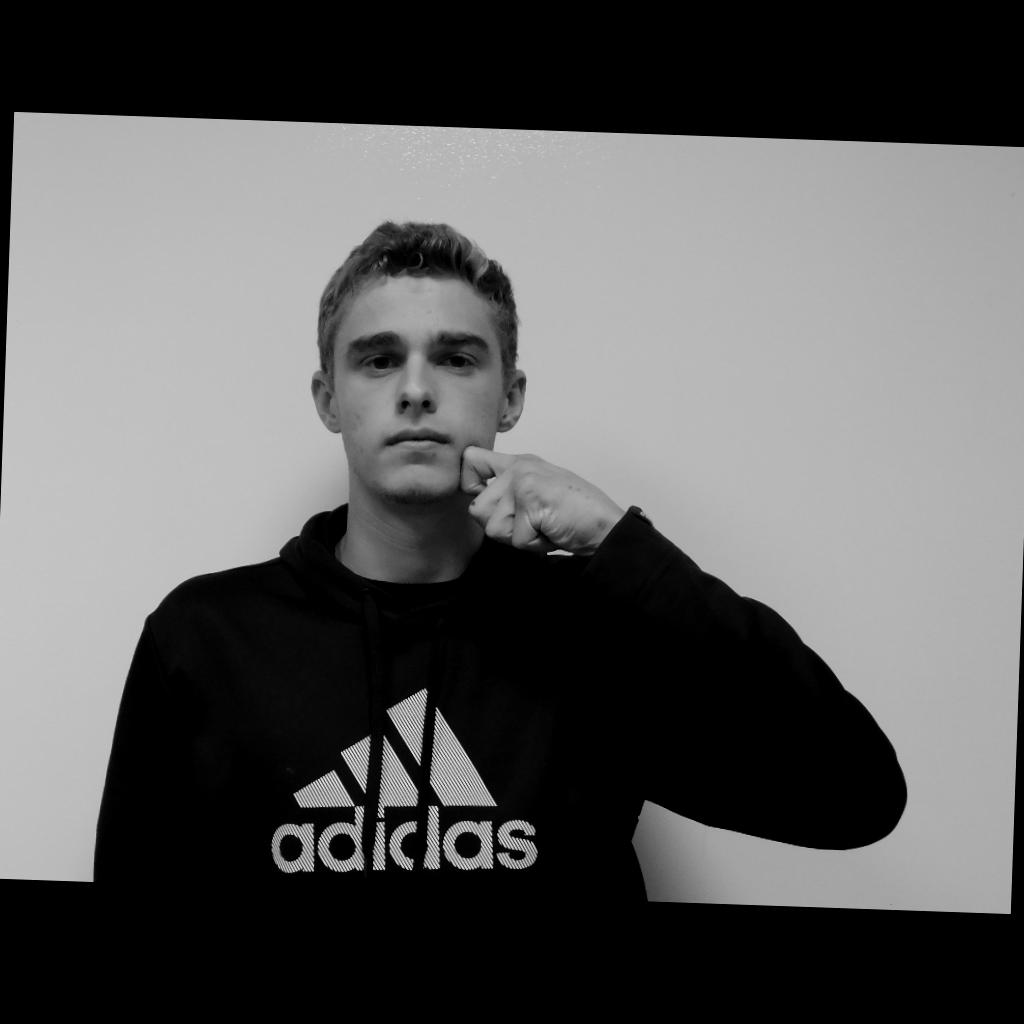apple: (458, 446, 612, 554)
